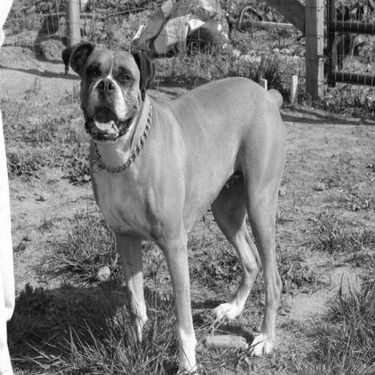dog: (48, 39, 295, 372)
